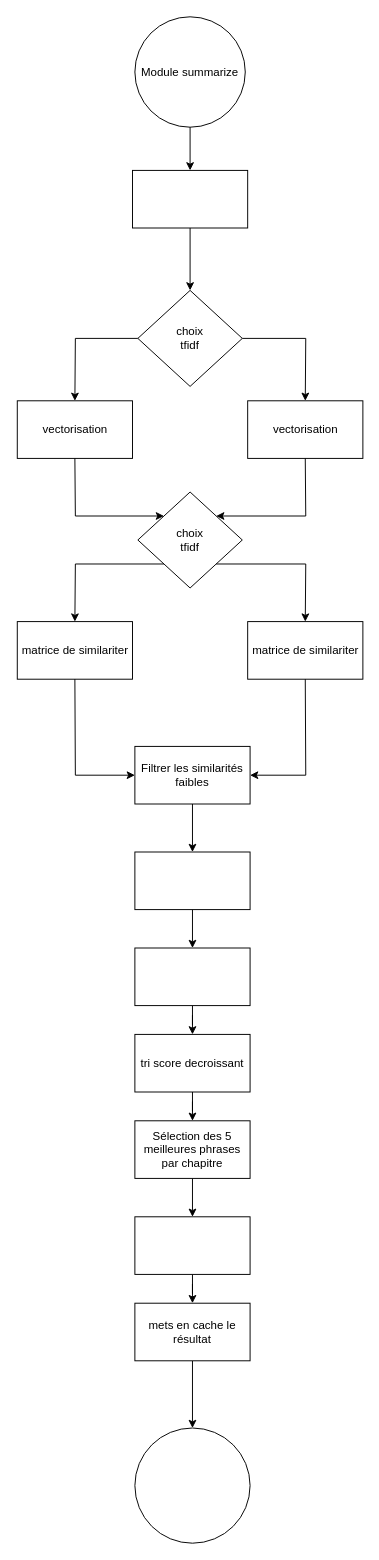
This 379x1560 diagram has some shape labels left out. The shapes that lost their labels are listed below. From the top down, each one's box as (x1, y1, x2, y2) in pixels, then its label:
(132, 169, 248, 228): récuperation du text get_clean_text {id}
(134, 851, 250, 910): graphe similitude
(134, 947, 250, 1006): PageRank sur graphe
(134, 1216, 250, 1274): remet ordre original
(134, 1427, 250, 1543): retourne le résultat
